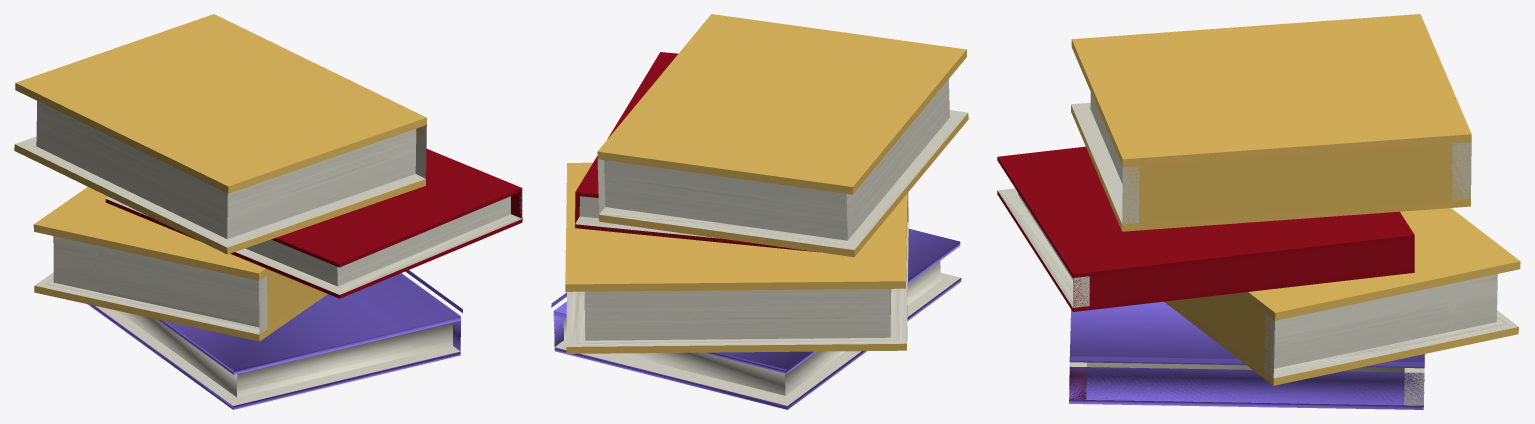
File: Książki 1.fbx
3 views of the same model, side by side, from view 1: azimuth 30°, elevation 25°; view 2: azimuth 150°, elevation 25°; view 3: azimuth 270°, elevation 25° (orthographic). The views are drawn at different scales.
Visible parts, largest first — view 1: Książki.001; view 2: Książki.001; view 3: Książki.001.
Part boxes in pixels (x1=…): Książki.001: x1=14, y1=14, x2=522, y2=409; Książki.001: x1=551, y1=14, x2=968, y2=409; Książki.001: x1=997, y1=14, x2=1520, y2=409.
Bounding box in the file's own units: 73.35 × 44.22 × 84.67.
